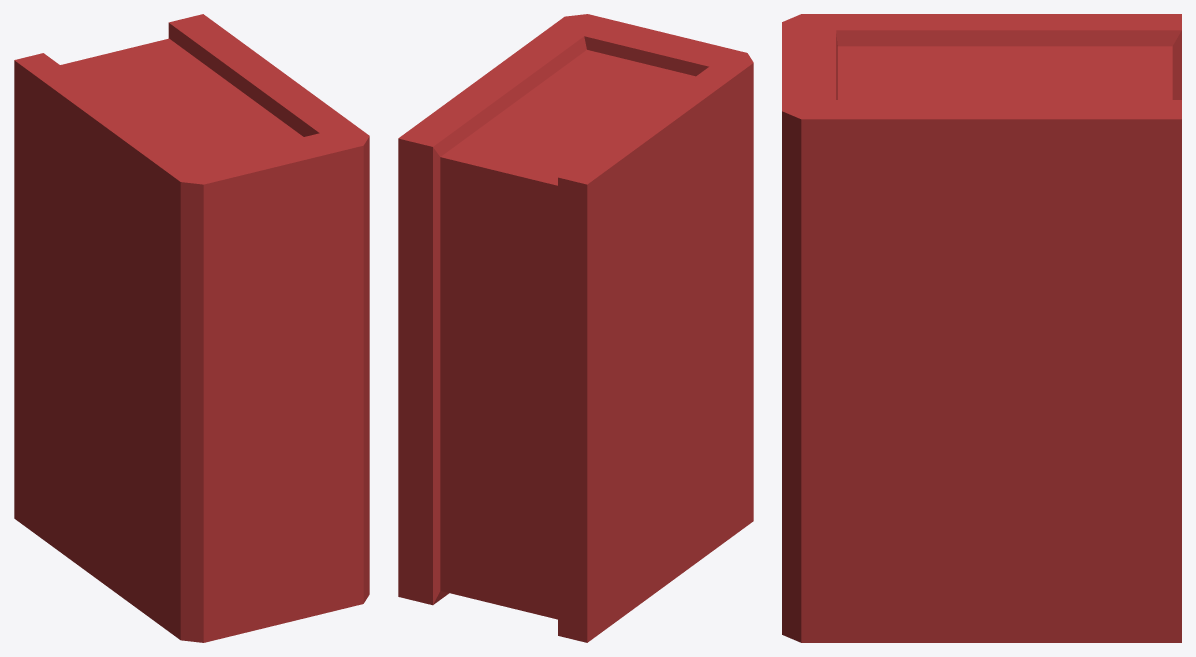
The model's file is book2.fbx.
3 views of the same model, side by side, from view 1: azimuth 30°, elevation 25°; view 2: azimuth 150°, elevation 25°; view 3: azimuth 270°, elevation 25° (orthographic). The views are drawn at different scales.
Visible parts, largest first — view 1: book2; view 2: book2; view 3: book2.
Part boxes in pixels (left/top/right/bottom): book2: left=14, top=14, right=369, bottom=642; book2: left=398, top=14, right=753, bottom=642; book2: left=782, top=14, right=1181, bottom=642.
Bounding box in the file's own units: 10.11 × 23.4 × 16.19.
